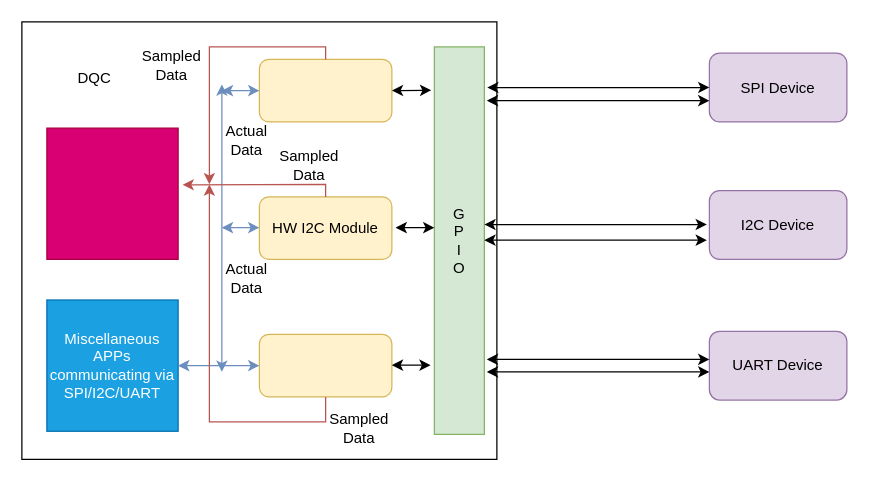
Image size: 869x481. Some labels were removed from this diagram. The shapes that lost their labels are listed below. From the top down, each one's centre as x and y in pixels, then its label:
(325,90): HW SPI Module
(112,193): Sniffing Application listening to communication channels I2C/SPI/UART
(325,365): HW UART Module
